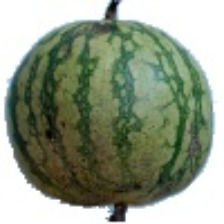watermelon: (22, 56, 170, 194)
